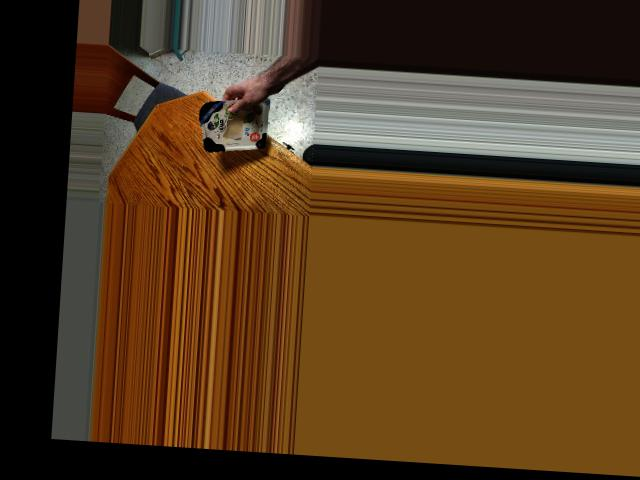cheese: (194, 94, 279, 149)
